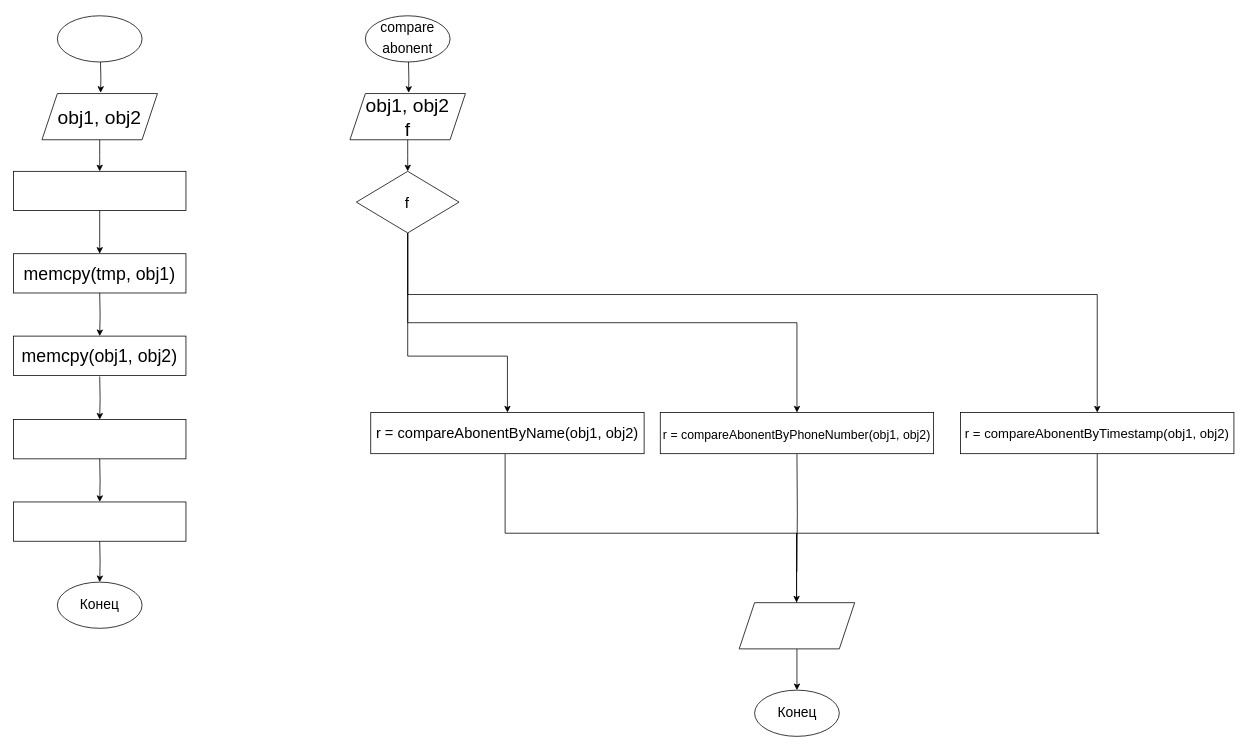
Image size: 1247x750. Some labels were removed from this diagram. The shapes that lost their labels are listed below. From the top down, each one's box as (x1, y1, x2, y2) in pixels, then its label:
(57, 15, 142, 62): swap
(13, 171, 186, 211): tmp = malloc(1)
(13, 419, 186, 459): memcpy(obj2, tmp)
(13, 501, 186, 541): free(tmp)
(738, 602, 855, 649): Вывод r
